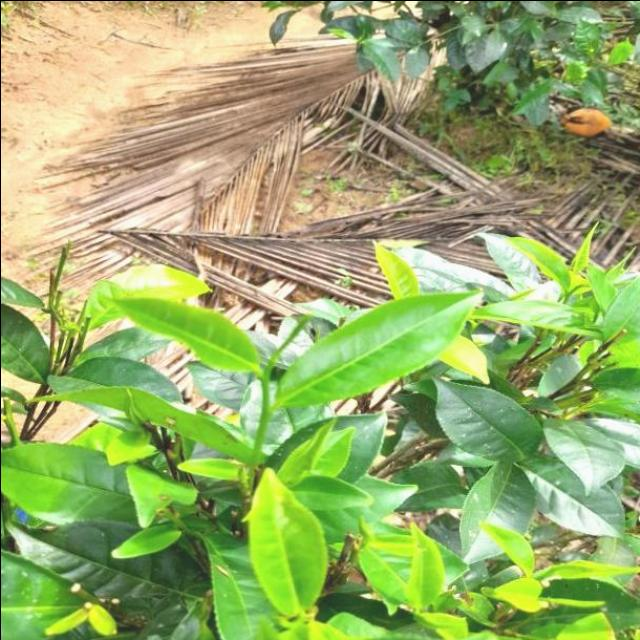Stem: (260, 375, 268, 385)
